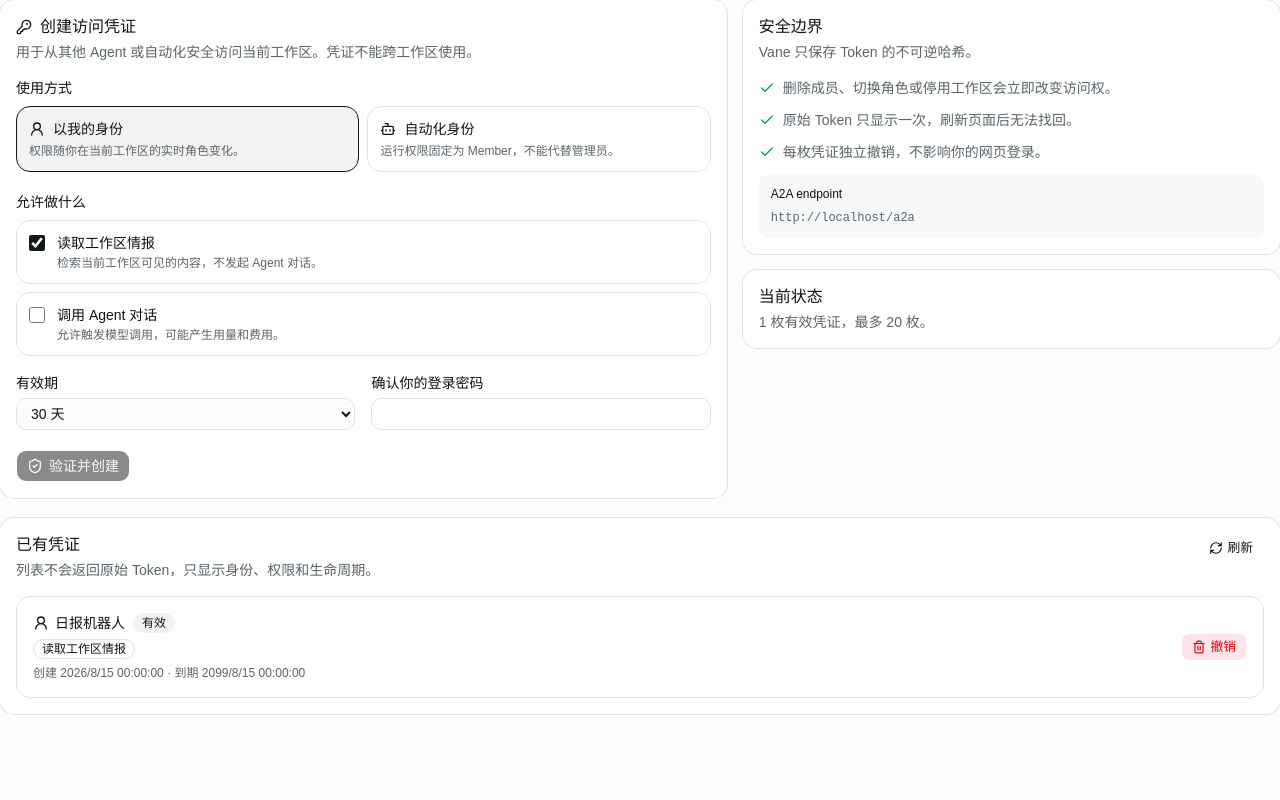
Scenario: A2A credential management › revokes an active credential without retaining the raw bearer
Expected: the text "日报机器人" is shown, left=33, top=613, right=125, bottom=633
Click the button "撤销" at (1214, 647), box left=1181, top=633, right=1247, bottom=661
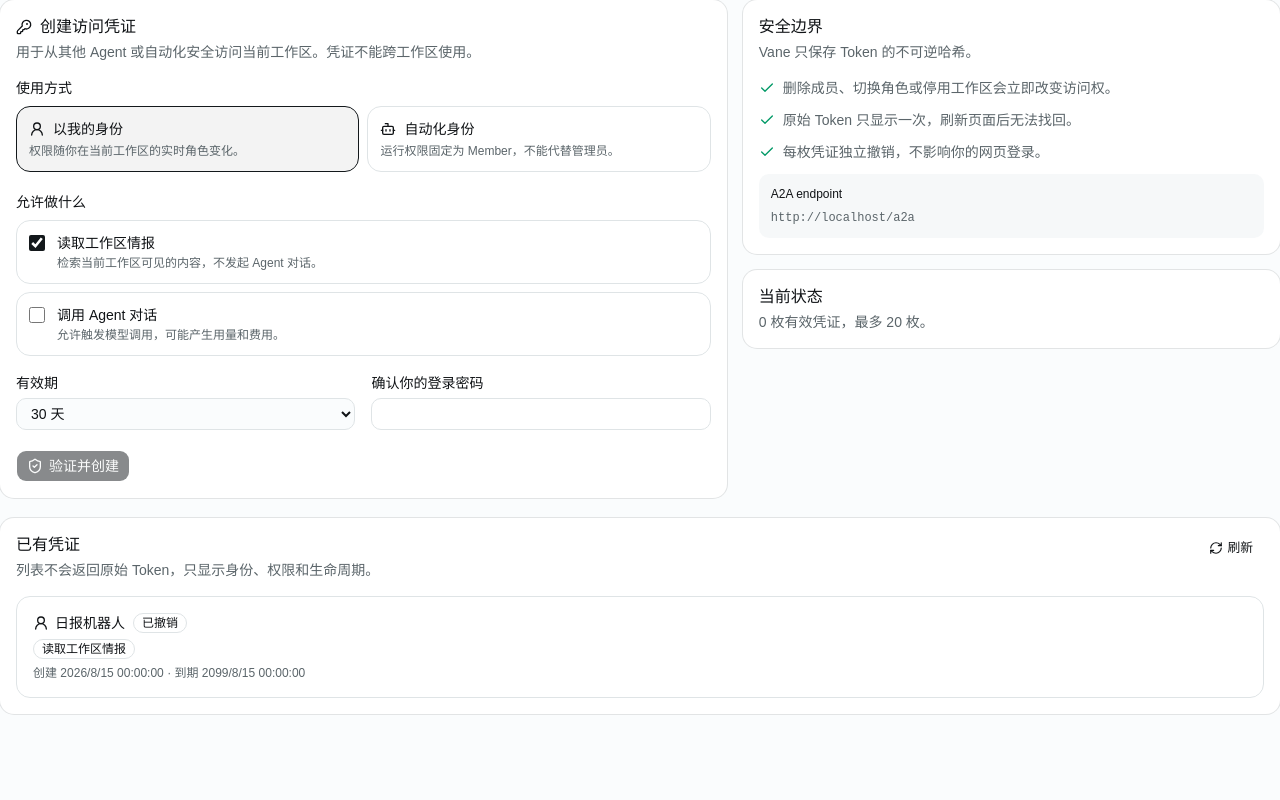
Now the icon "已撤销" is shown, box left=133, top=613, right=187, bottom=633
